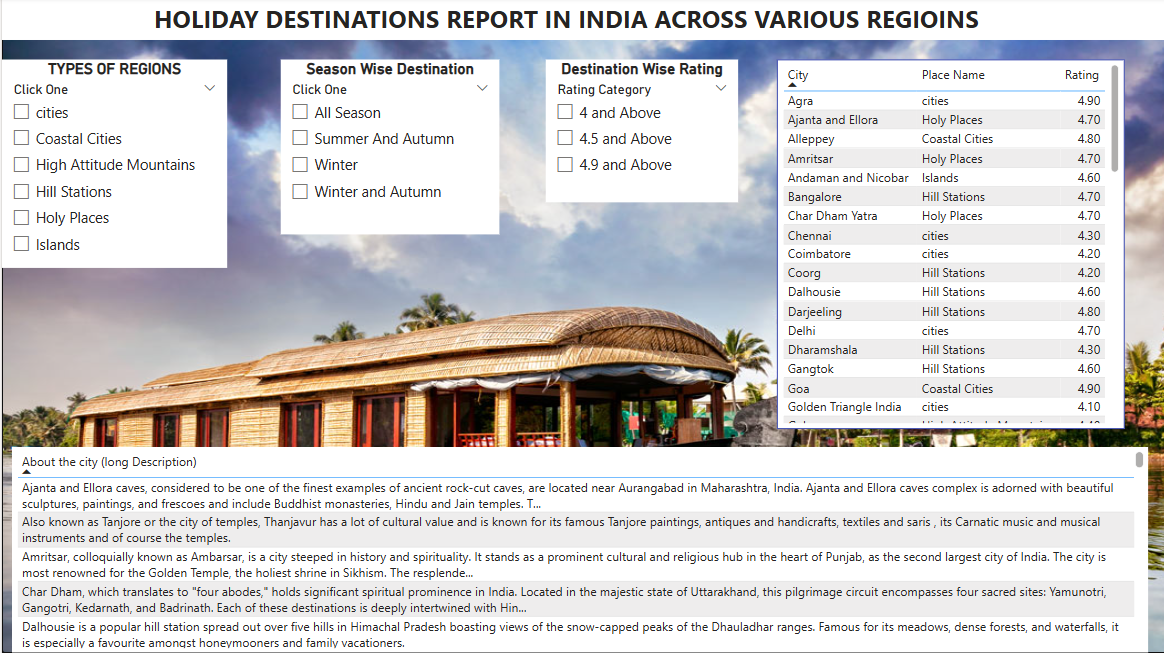

The dashboard page shown, as its layout file describes it:
{"tool":"powerbi","page":{"name":"Page 1","canvas":[1280,720],"ordinal":0},"visuals":[{"type":"tableEx","fields":{"Values":["Holidays3.City","Holidays3.type_of_place","Holidays3.Rating"]},"box":[851.4,68.6,381.4,405.7],"z":0},{"type":"textbox","box":[0,0,1280,47.1],"z":2},{"type":"slicer","title":"Destination Wise Rating","fields":{"Values":["Holidays3.Rating Category"]},"box":[577.1,122.9,211.4,157.1],"z":3},{"type":"slicer","title":"TYPES OF REGIONS","fields":{"Values":["Holidays3.type_of_place"]},"box":[11.4,201.4,247.1,230],"z":4},{"type":"slicer","title":"Season Wise Destination","fields":{"Values":["Holidays3.Best Time to visit (groups)"]},"box":[300,167.1,240,192.9],"z":5},{"type":"tableEx","fields":{"Values":["Holidays3.About the city (long Description)"]},"box":[11.4,494.3,1247.1,225.7],"z":6}]}

Visuals, with their boxes in screenshot pixels (x1, y1, x2, y2), scaled from the page's 1280x720 canvas onto the 1164x653 screenshot:
tableEx - Holidays3.City x Holidays3.type_of_place: [774, 62, 1121, 430]
textbox: [0, 0, 1163, 43]
"Destination Wise Rating" slicer: [525, 111, 717, 254]
"TYPES OF REGIONS" slicer: [10, 183, 235, 391]
"Season Wise Destination" slicer: [273, 152, 491, 326]
tableEx - Holidays3.About the city (long Description): [10, 448, 1144, 652]
